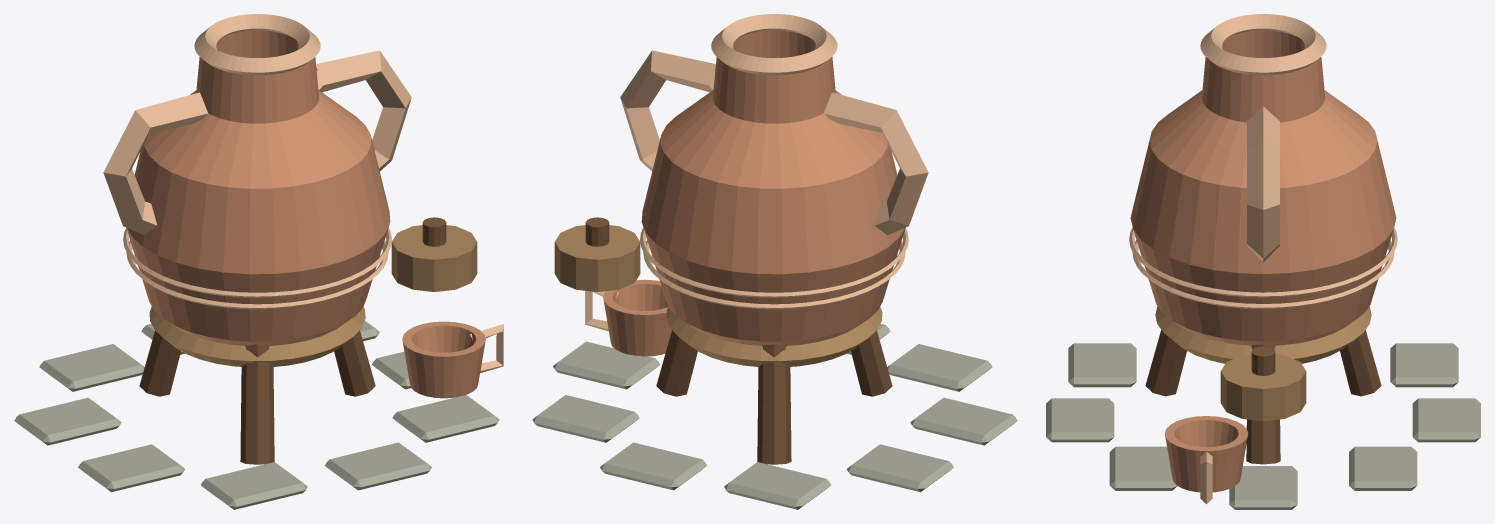
3 renders of one model, left to right at view 1: azimuth 30°, elevation 25°; view 2: azimuth 150°, elevation 25°; view 3: azimuth 270°, elevation 25°, orthographic.
Visible parts, largest first — view 1: BA-0061 batched; view 2: BA-0061 batched; view 3: BA-0061 batched.
Boxes of the visible parts, box(x1,y1,x2,y2) form: BA-0061 batched: box(14, 14, 503, 509); BA-0061 batched: box(532, 14, 1017, 509); BA-0061 batched: box(1046, 14, 1480, 509).
Bounding box in the file's own units: 1.26 × 1.1 × 1.15.
